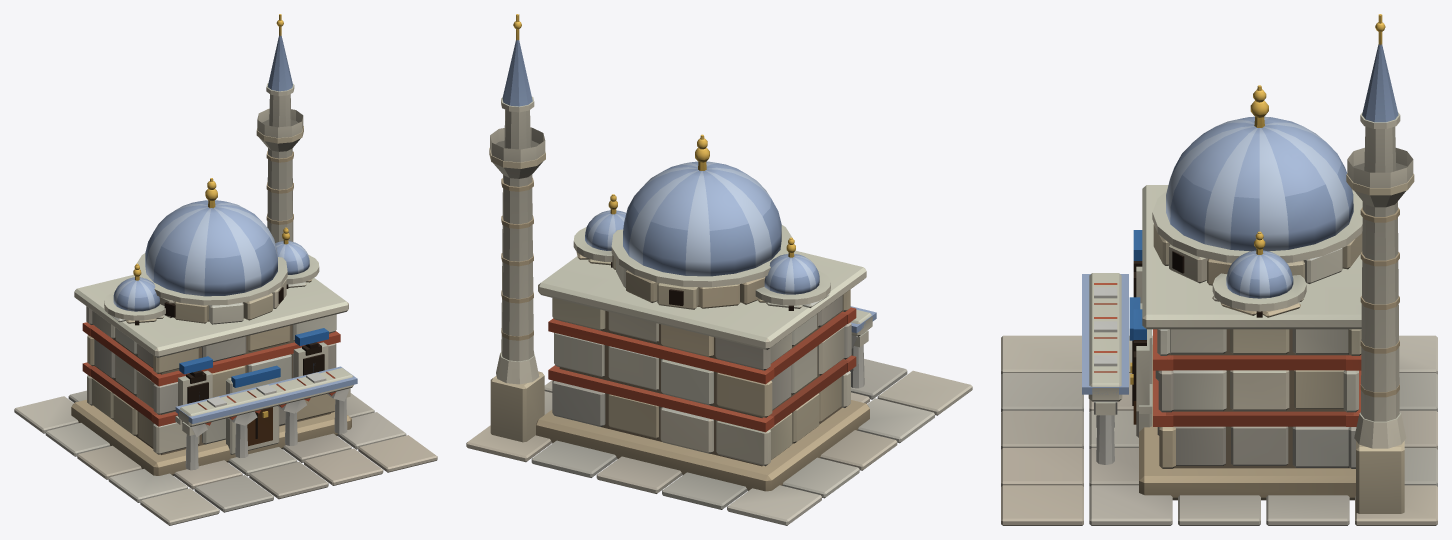
Rendered from b_religion.glb.
3 views of the same model, side by side, from view 1: azimuth 30°, elevation 25°; view 2: azimuth 150°, elevation 25°; view 3: azimuth 270°, elevation 25° (orthographic). The views are drawn at different scales.
Visible parts, largest first — view 1: b_religion, L3, L2; view 2: b_religion, L3, L2; view 3: b_religion, L3, L2.
Part boxes in pixels (x1,y1,x2,y2): b_religion: [14, 178, 437, 525]; L3: [256, 14, 303, 242]; L2: [104, 227, 319, 325]; b_religion: [466, 134, 972, 525]; L3: [489, 14, 545, 442]; L2: [573, 194, 830, 310]; b_religion: [1001, 85, 1437, 525]; L3: [1346, 14, 1414, 513]; L2: [1212, 231, 1306, 317].
Bounding box in the file's own units: 0.652 × 0.817 × 0.652.
